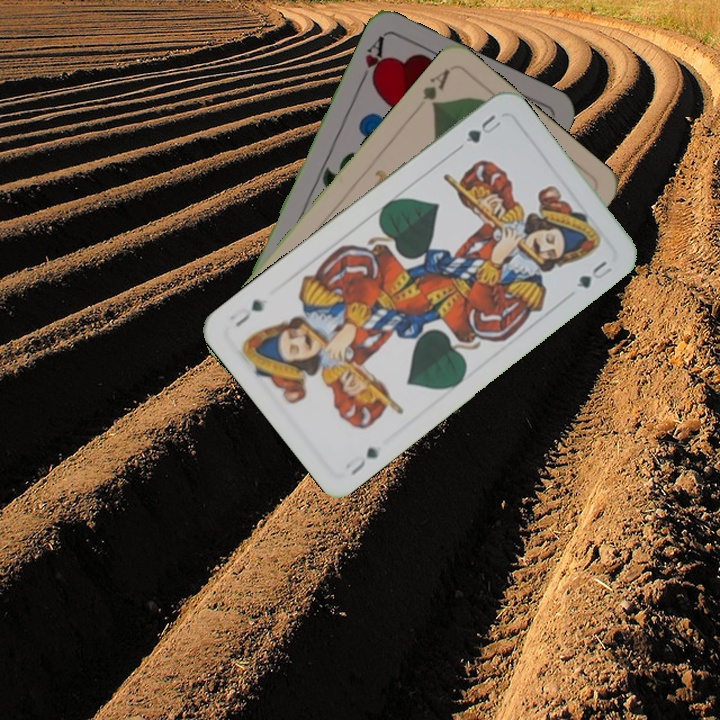GA: (418, 65, 453, 111)
GU: (461, 110, 504, 146), (341, 443, 383, 479)
HA: (355, 32, 388, 89)
